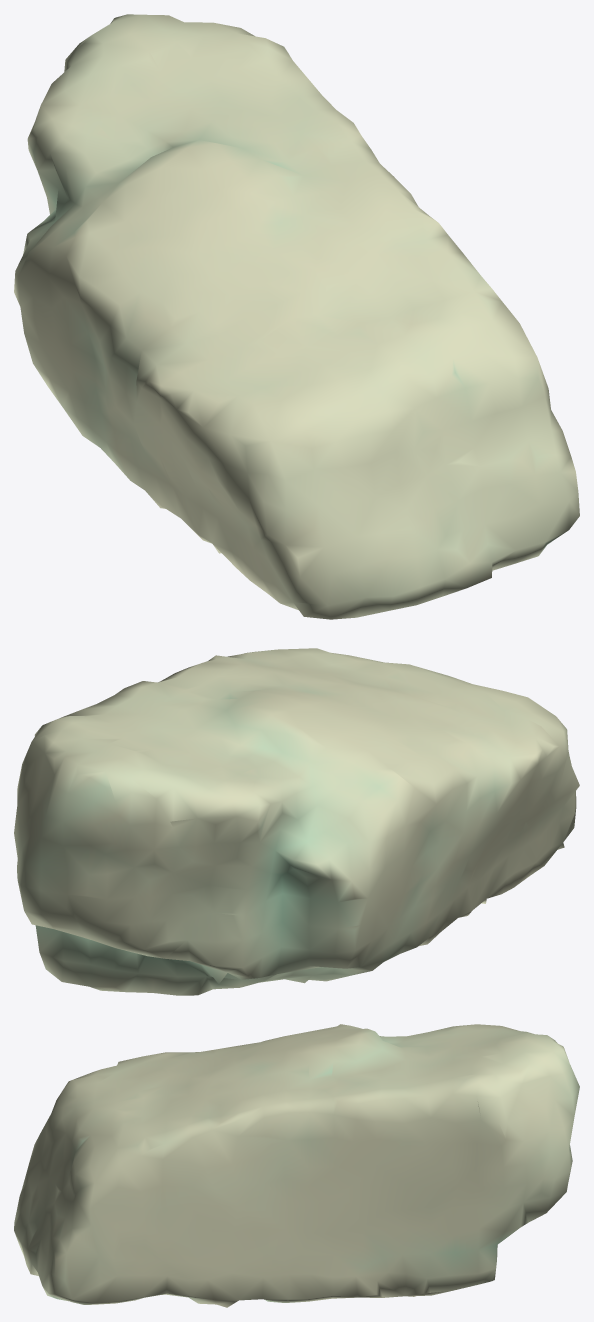
File: scan_06_lo.glb
3 renders of one model, top to bottom at view 1: azimuth 30°, elevation 25°; view 2: azimuth 150°, elevation 25°; view 3: azimuth 270°, elevation 25°, orthographic. The views are drawn at different scales.
Bounding box in the file's own units: 0.9573 × 0.8117 × 1.82.
